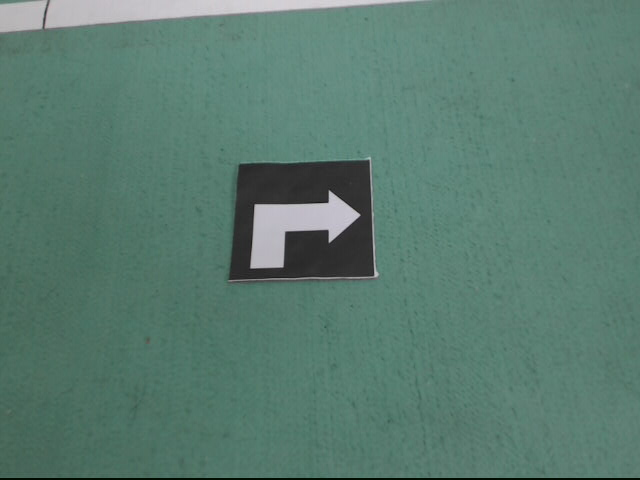right: (228, 159, 375, 280)
